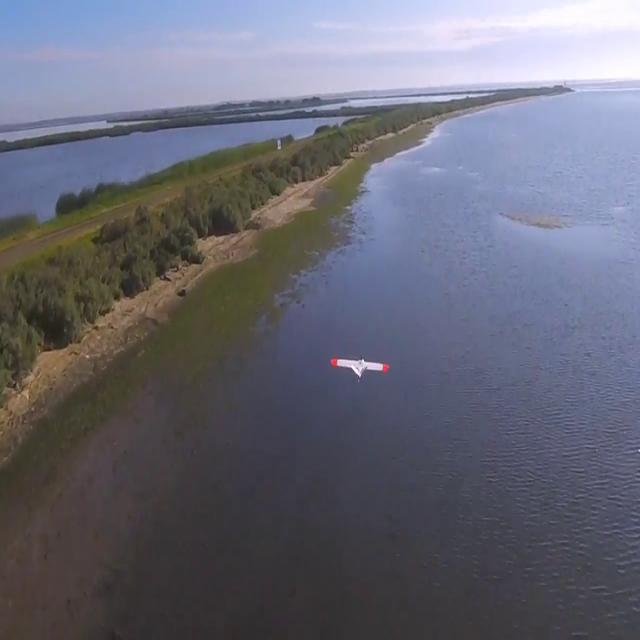iha: (330, 354, 390, 389)
